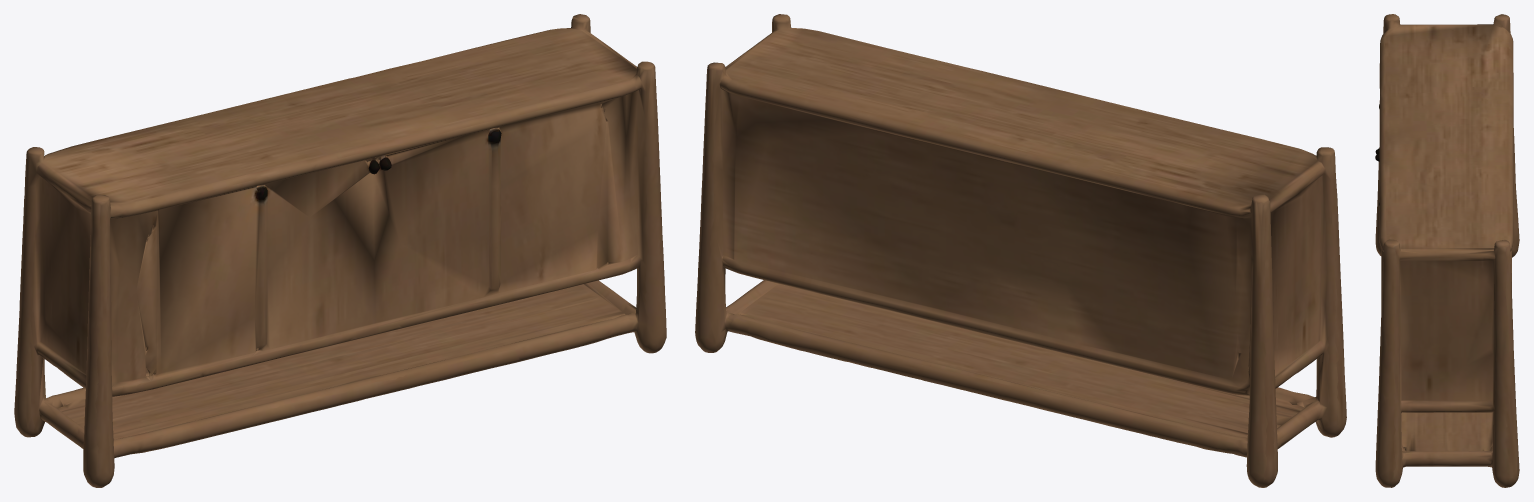
The model's file is sideboard.glb.
3 renders of one model, left to right at view 1: azimuth 30°, elevation 25°; view 2: azimuth 150°, elevation 25°; view 3: azimuth 270°, elevation 25°, orthographic. The views are drawn at different scales.
Visible parts, largest first — view 1: sideboard-normalized; view 2: sideboard-normalized; view 3: sideboard-normalized.
Boxes of the visible parts, x1=… form: sideboard-normalized: x1=14, y1=14, x2=666, y2=487; sideboard-normalized: x1=695, y1=14, x2=1346, y2=487; sideboard-normalized: x1=1375, y1=14, x2=1519, y2=487.
Bounding box in the file's own units: 1.65 × 0.78 × 0.4199.
1 material, 1 textured.
